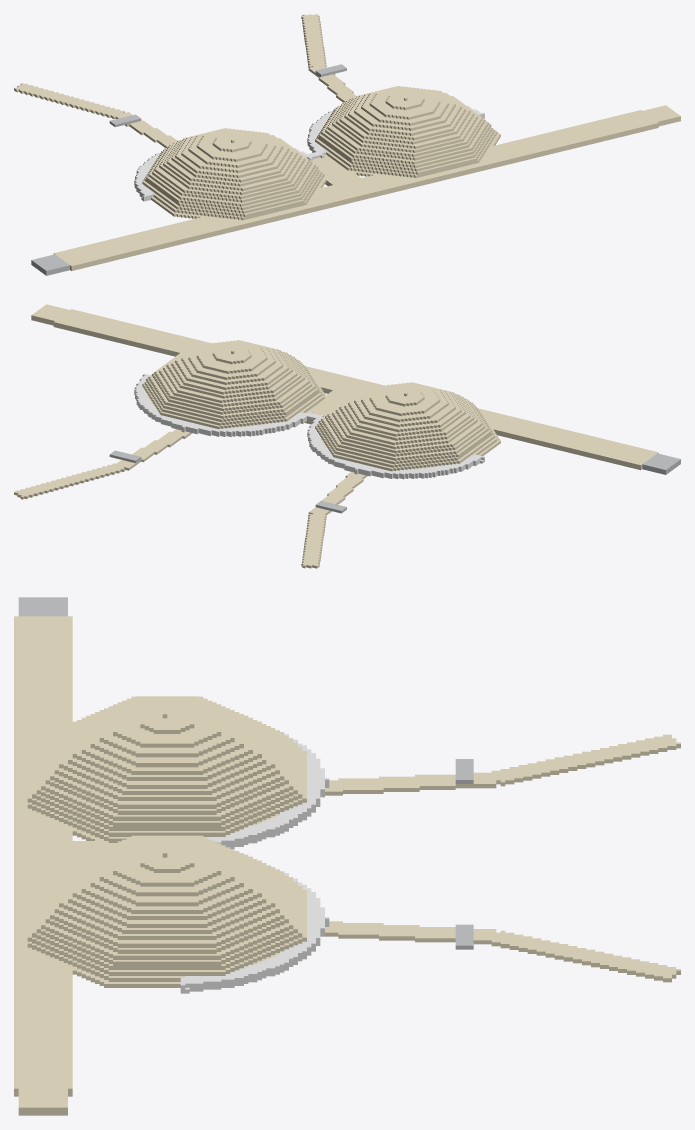
File: bra.glb
The picture shows the model from 3 angles, top to bottom: view 1: azimuth 30°, elevation 25°; view 2: azimuth 150°, elevation 25°; view 3: azimuth 270°, elevation 25°; orthographic projection. The views are drawn at different scales.
Parts seen in each view (by area): view 1: bra:compound; view 2: bra:compound; view 3: bra:compound.
Boxes of the visible parts, bbox=[...] form: bra:compound: bbox=[14, 14, 680, 275]; bra:compound: bbox=[14, 304, 680, 568]; bra:compound: bbox=[14, 597, 680, 1115].
Size of the model in its own units: 0.536 by 0.038 by 0.296.
